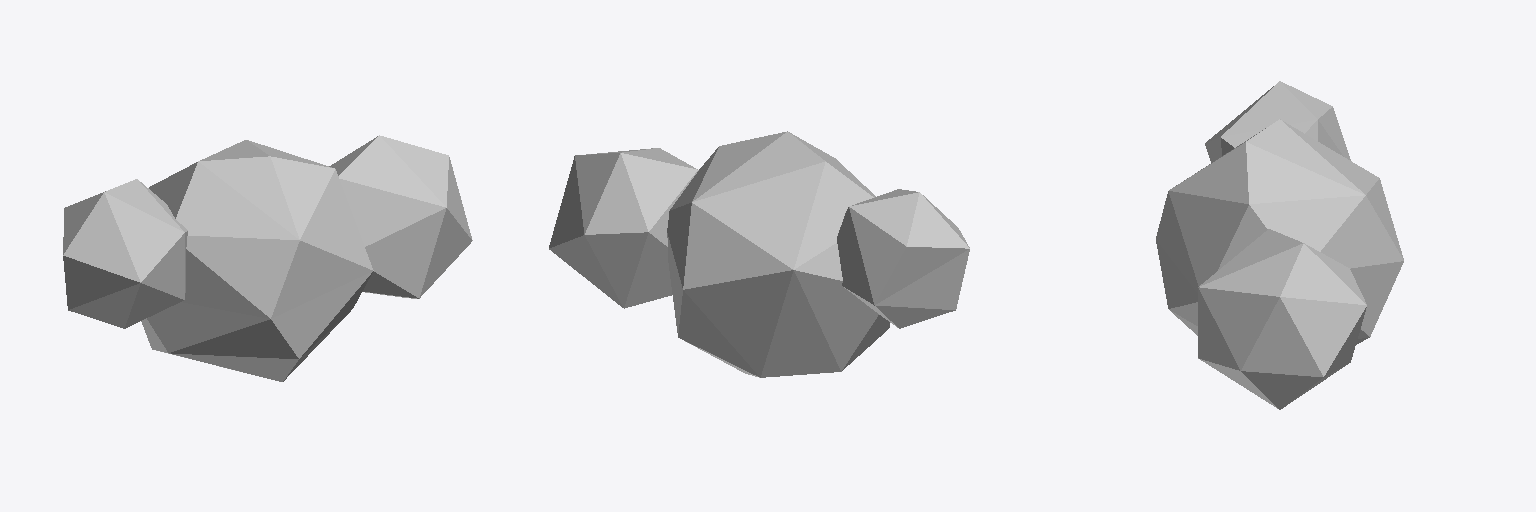
Rendered from clouds.obj.
3 views of the same model, side by side, from view 1: azimuth 30°, elevation 25°; view 2: azimuth 150°, elevation 25°; view 3: azimuth 270°, elevation 25° (orthographic).
Visible parts, largest first — view 1: Icosphere.002_Icosphere.007; view 2: Icosphere.002_Icosphere.007; view 3: Icosphere.002_Icosphere.007.
Boxes of the visible parts, x1,y1,x2,y2 form: Icosphere.002_Icosphere.007: [63, 135, 472, 381]; Icosphere.002_Icosphere.007: [549, 131, 969, 377]; Icosphere.002_Icosphere.007: [1156, 81, 1403, 409].
Bounding box in the file's own units: 3.64 × 1.99 × 1.99.